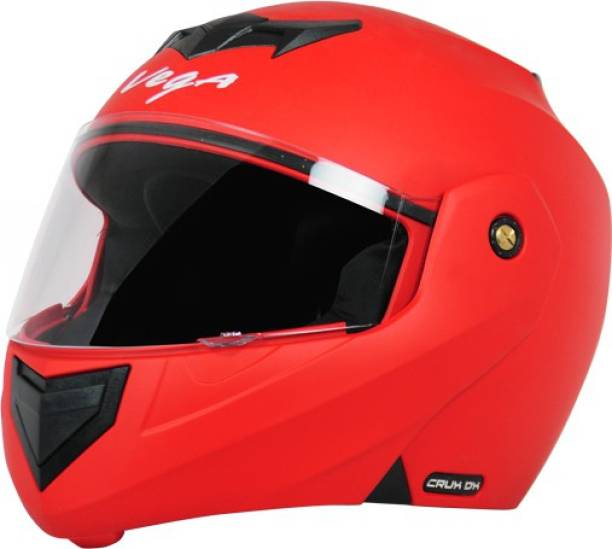with_helmet: (2, 3, 612, 544)
